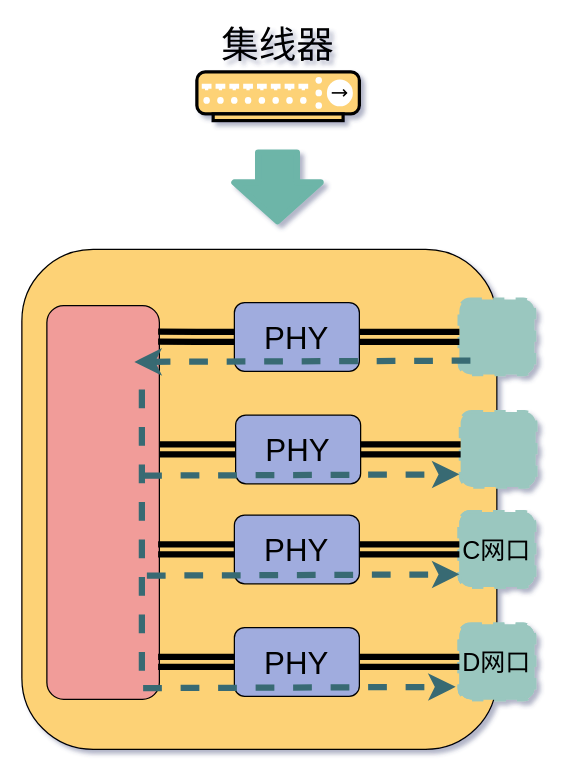
Some shapes in this 566 by 779 pixel diagram are drawn without their labels. Each missing label, with the centre of its shape:
"A网口" belongs at pixel 496 336.
"B网口" belongs at pixel 497 448.
"中 继 电 路 转发" belongs at pixel 102 501.
